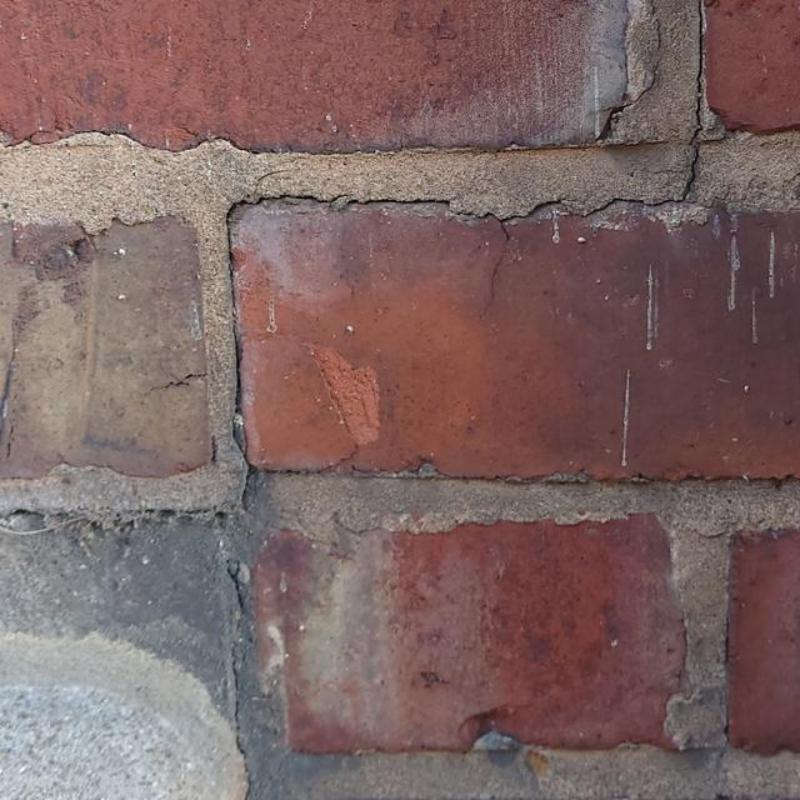crack: (226, 193, 348, 504), (581, 0, 704, 219), (450, 197, 576, 319), (594, 63, 659, 141), (230, 644, 252, 799), (146, 373, 206, 395), (226, 556, 244, 624), (345, 196, 451, 207), (651, 0, 662, 51), (257, 170, 292, 181)
